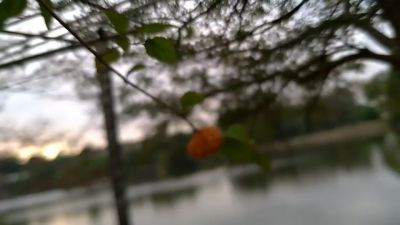eggs: (186, 123, 225, 163)
